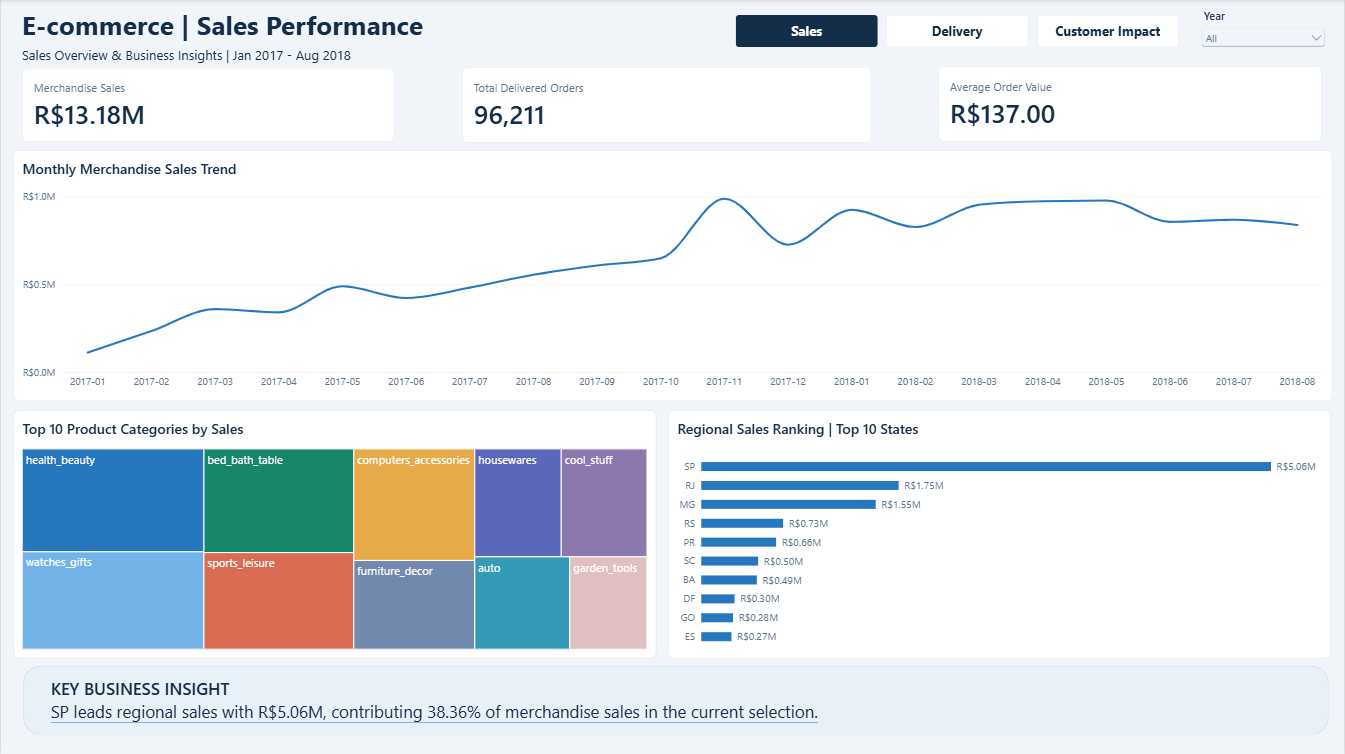

The dashboard page shown, as its layout file describes it:
{"tool":"powerbi","page":{"name":"Sales ","canvas":[1920,1080],"ordinal":0},"visuals":[{"type":"textbox","box":[18.2,0,798.2,78.2],"z":0},{"type":"textbox","box":[18.2,54.5,556.4,63.6],"z":1000},{"type":"cardVisual","fields":{"Data":["OrderItems.Merchandise Sales"]},"box":[18.2,87.3,556.4,129.1],"z":2000},{"type":"cardVisual","fields":{"Data":["OrderItems.Total Orders"]},"box":[646.4,85.5,609.1,132.7],"z":3000},{"type":"cardVisual","fields":{"Data":["OrderItems.Average Order Value"]},"box":[1327.3,83.6,572.7,132.7],"z":4000},{"type":"lineChart","title":"Monthly Merchandise Sales Trend","fields":{"Category":["DateTable.YearMonth"],"Y":["OrderItems.Merchandise Sales"]},"box":[18.2,216.4,1883.6,358.2],"z":5000},{"type":"treemap","title":"Top 10 Product Categories by Sales","fields":{"Group":["Products.product_category"],"Values":["OrderItems.Merchandise Sales"]},"box":[18.2,587.3,918.2,354.5],"z":6000},{"type":"clusteredBarChart","title":"Regional Sales Ranking | Top 10 States","fields":{"Category":["Customers.customer_state"],"Y":["OrderItems.Merchandise Sales"]},"box":[952.7,587.3,945.5,354.5],"z":7000},{"type":"slicer","fields":{"Values":["DateTable.Year"]},"box":[1698.2,0,210.9,78.2],"z":8000},{"type":"pageNavigator","box":[1038.2,10.9,659.3,70.4],"z":9000},{"type":"shape","box":[20,941.8,1889.1,121.8],"z":9500},{"type":"textbox","box":[58.2,989.1,1190.9,60],"z":10000},{"type":"textbox","box":[58.2,956.4,305.5,63.6],"z":12000}]}

Visuals, with their boxes in screenshot pixels (x1, y1, x2, y2), scaled from the page's 1920x1080 canvas onto the 1345x754 screenshot:
textbox: <bbox>13, 0, 572, 55</bbox>
textbox: <bbox>13, 38, 403, 82</bbox>
cardVisual - OrderItems.Merchandise Sales: <bbox>13, 61, 403, 151</bbox>
cardVisual - OrderItems.Total Orders: <bbox>453, 60, 880, 152</bbox>
cardVisual - OrderItems.Average Order Value: <bbox>930, 58, 1331, 151</bbox>
"Monthly Merchandise Sales Trend" lineChart: <bbox>13, 151, 1332, 401</bbox>
"Top 10 Product Categories by Sales" treemap: <bbox>13, 410, 656, 658</bbox>
"Regional Sales Ranking | Top 10 States" clusteredBarChart: <bbox>667, 410, 1330, 658</bbox>
slicer - DateTable.Year: <bbox>1190, 0, 1337, 55</bbox>
pageNavigator: <bbox>727, 8, 1189, 57</bbox>
shape: <bbox>14, 658, 1337, 743</bbox>
textbox: <bbox>41, 691, 875, 732</bbox>
textbox: <bbox>41, 668, 255, 712</bbox>
